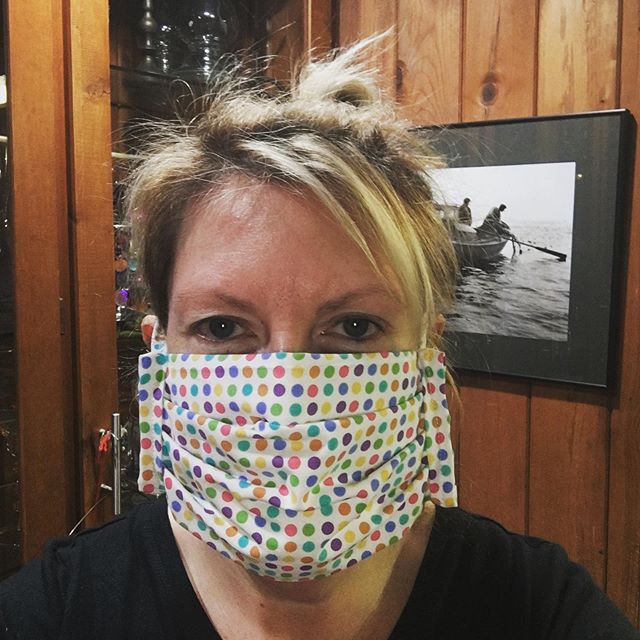homemade: (134, 344, 446, 586)
